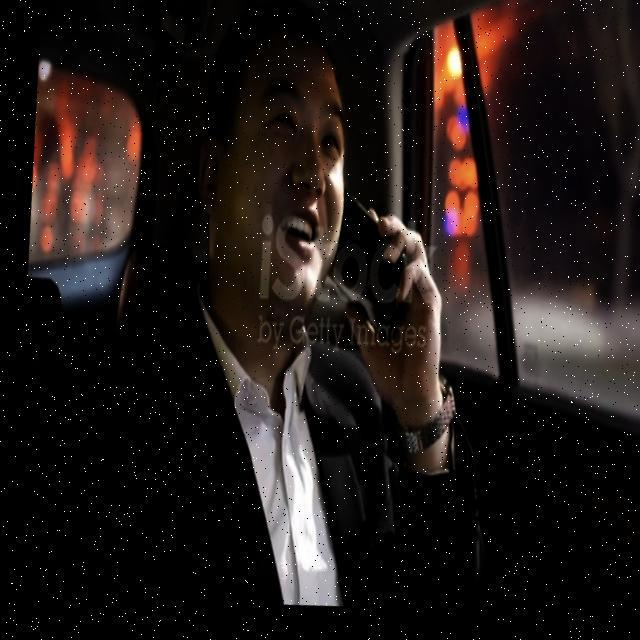PhoneCall: (307, 175, 418, 362)
